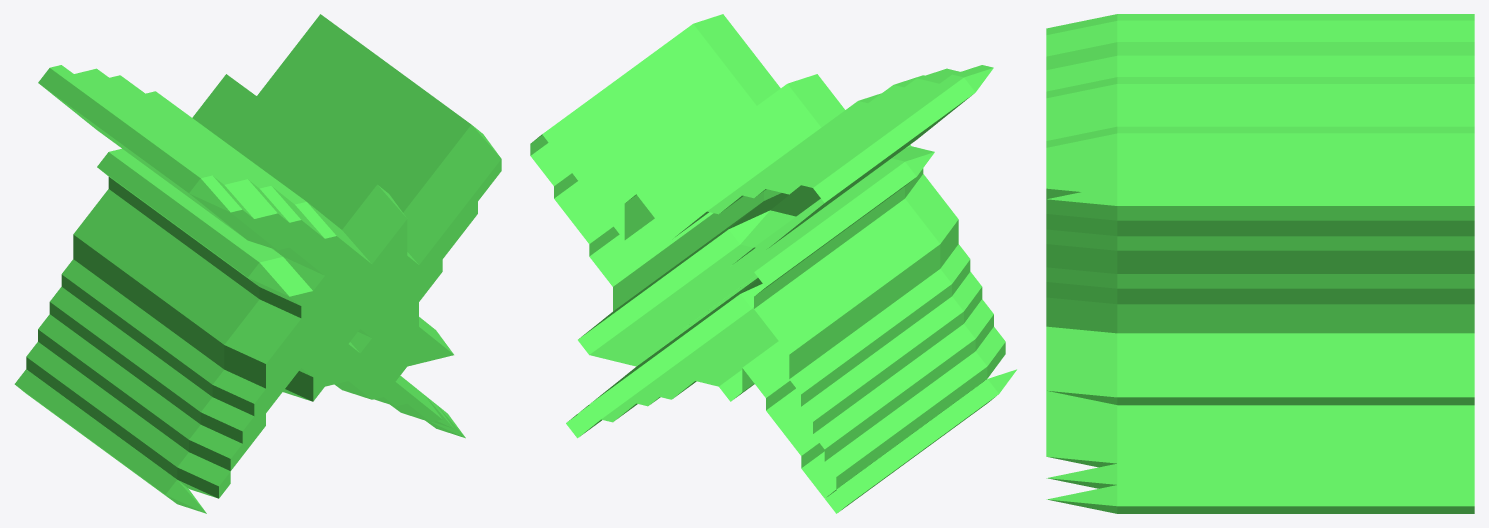
Rendered from SketchVolumeViewer_zapsym_zapsym_1_1_0000.obj.
3 renders of one model, left to right at view 1: azimuth 30°, elevation 25°; view 2: azimuth 150°, elevation 25°; view 3: azimuth 270°, elevation 25°, orthographic. The views are drawn at different scales.
Visible parts, largest first — view 1: zapsym; view 2: zapsym; view 3: zapsym.
Boxes of the visible parts, <box> form: zapsym: <box>14,14,501,513</box>; zapsym: <box>530,14,1016,513</box>; zapsym: <box>1046,14,1474,513</box>.
Size of the model in its own units: 364 by 351 by 360.
